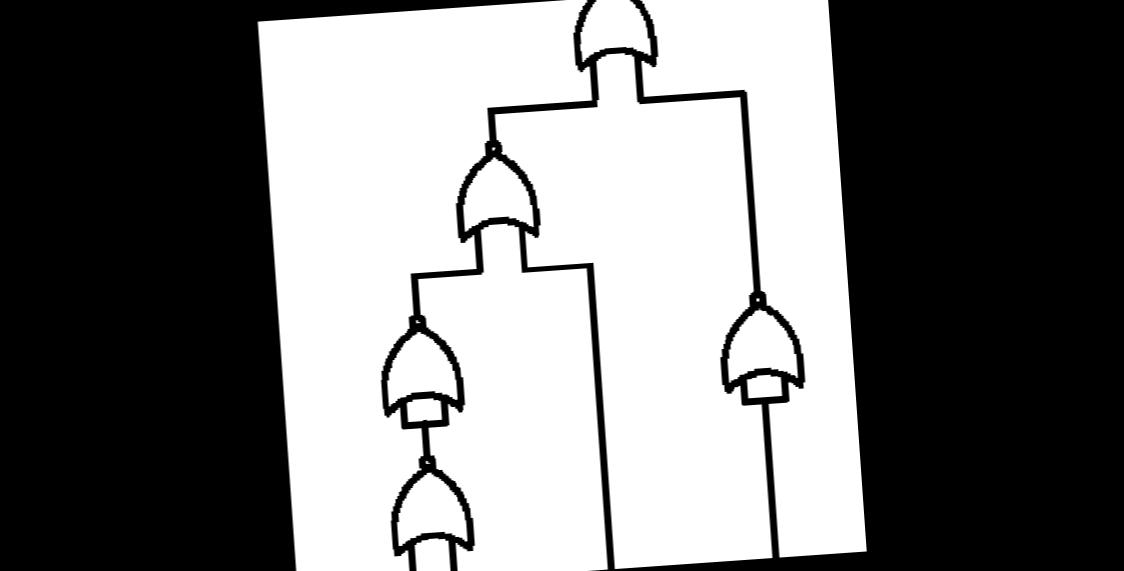nor: (433, 118, 562, 258), (706, 256, 827, 395), (374, 442, 488, 570), (366, 296, 472, 420), (555, 0, 681, 86)
